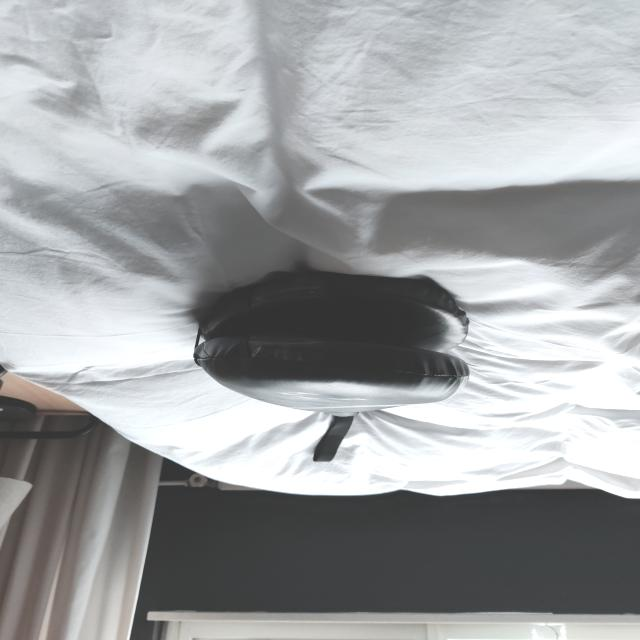paddle: (186, 271, 474, 417)
